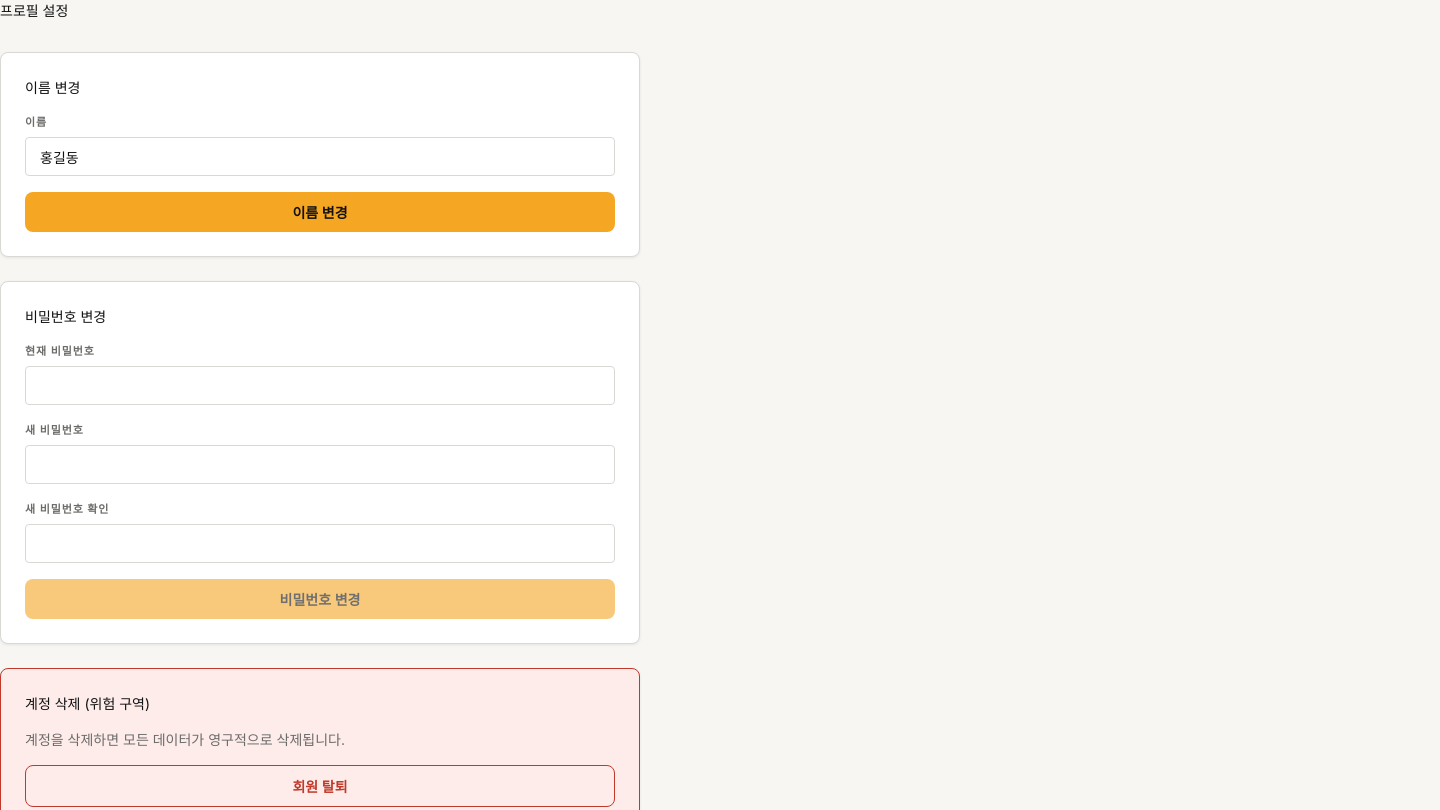
Test case: ProfilePage › 회원 탈퇴 섹션 › 탈퇴 모달 취소 시 모달이 닫힌다
The image size is (1440, 810).
Click the button "회원 탈퇴": (320, 786) [25,765,615,807]
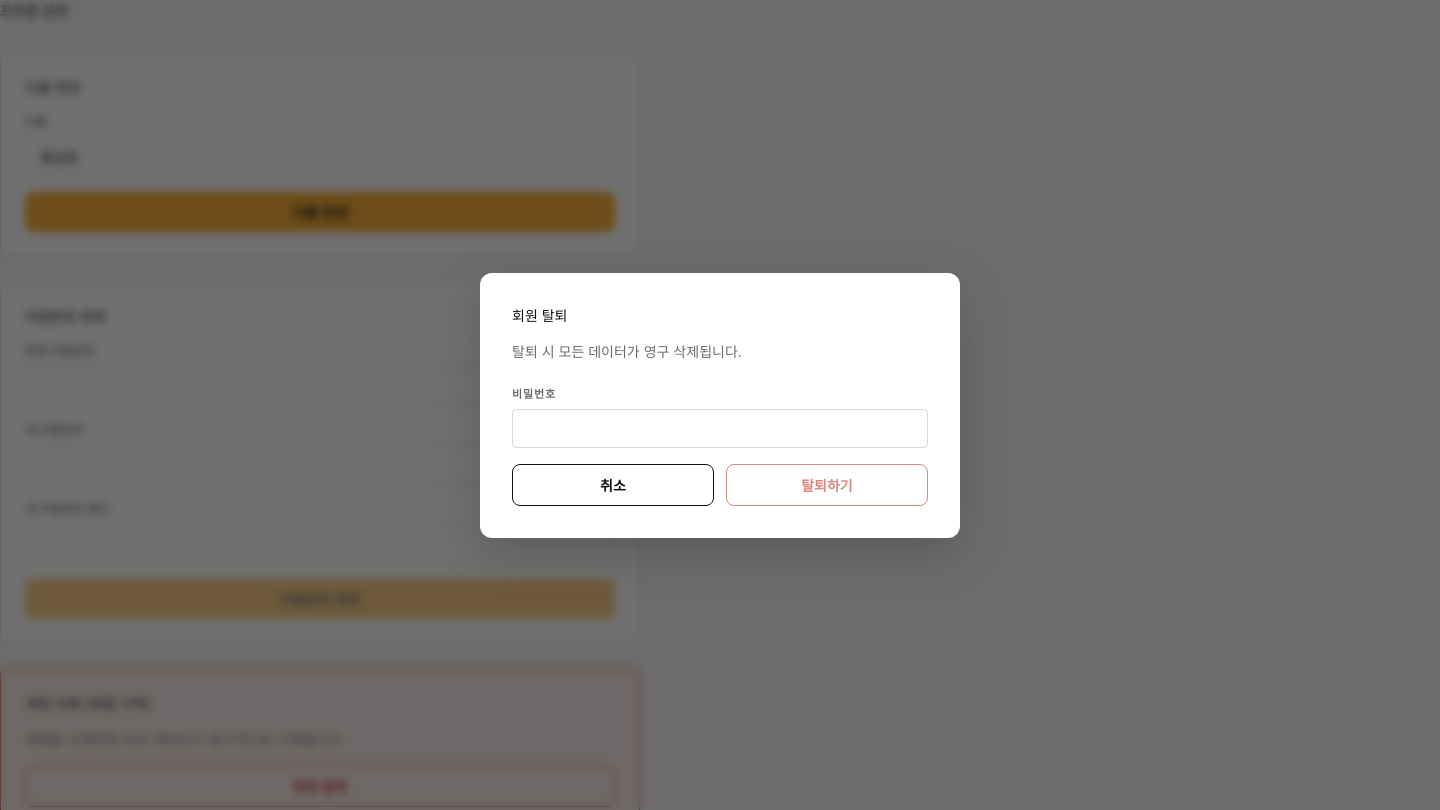
Result: the text "탈퇴 시 모든 데이터가 영구 삭제됩니다." is shown at [512,342,742,360]
Click the button "취소": (613, 484) [512,464,714,506]
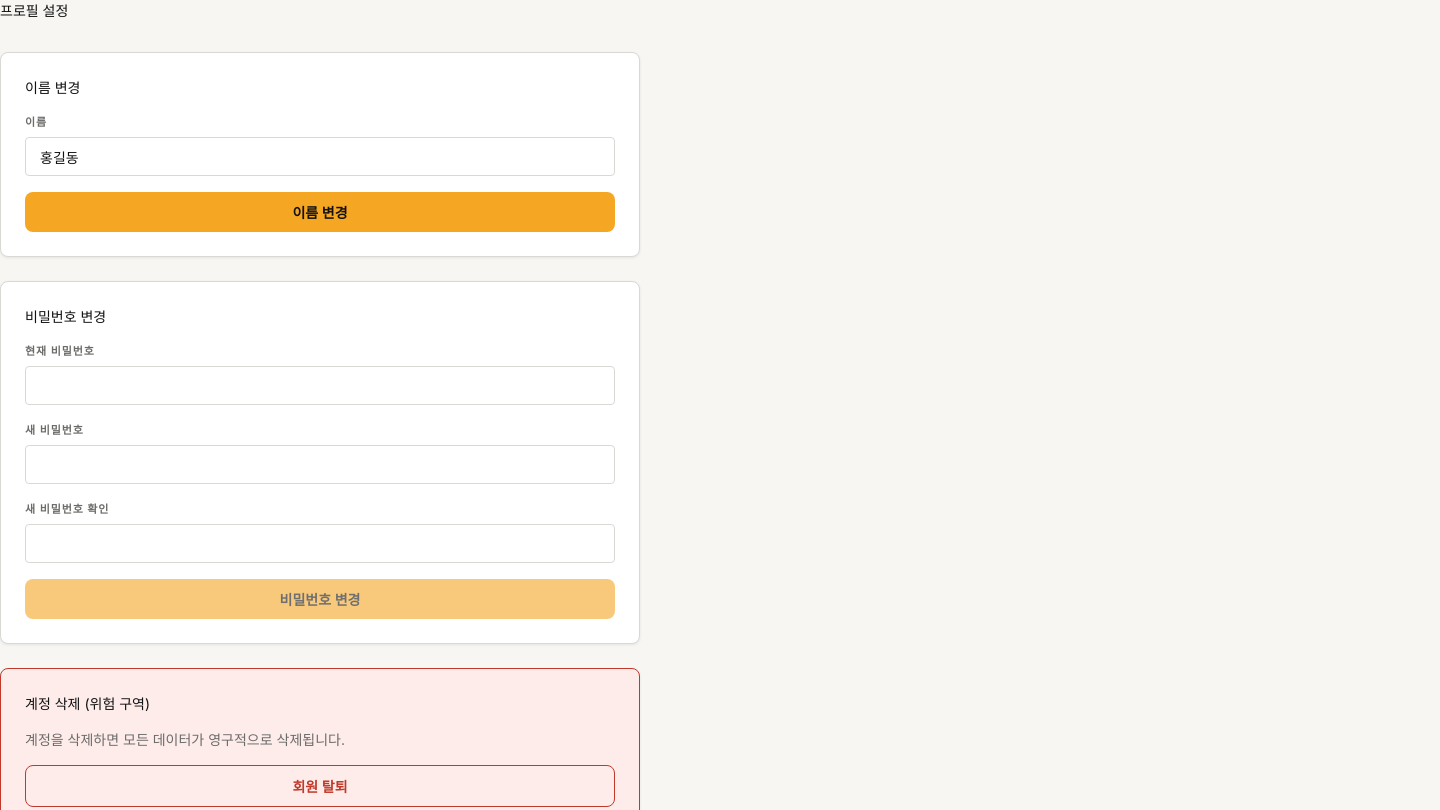
Result: the text "탈퇴 시 모든 데이터가 영구 삭제됩니다." is gone
